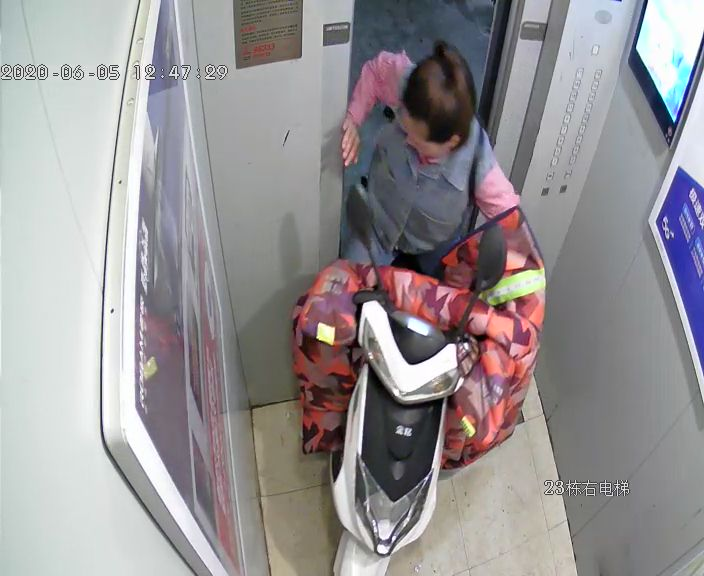Electric-bicycle: (290, 207, 547, 576)
